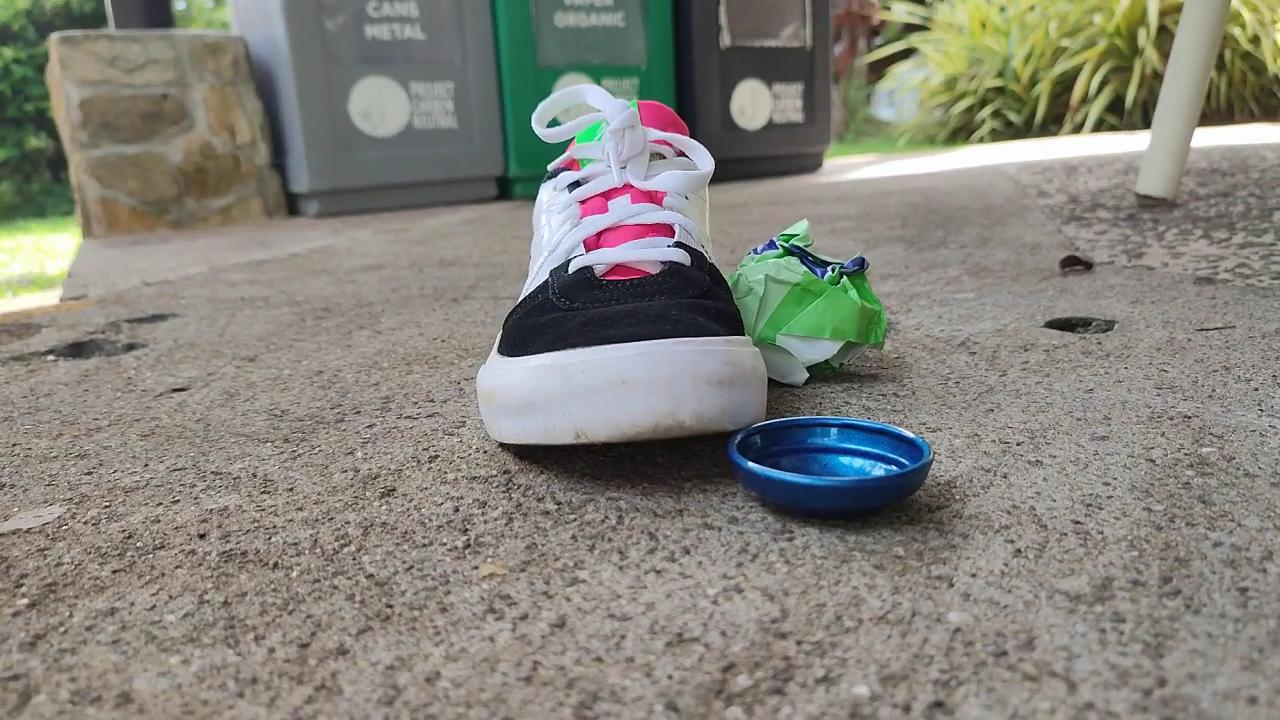Paper: (729, 195, 898, 395)
